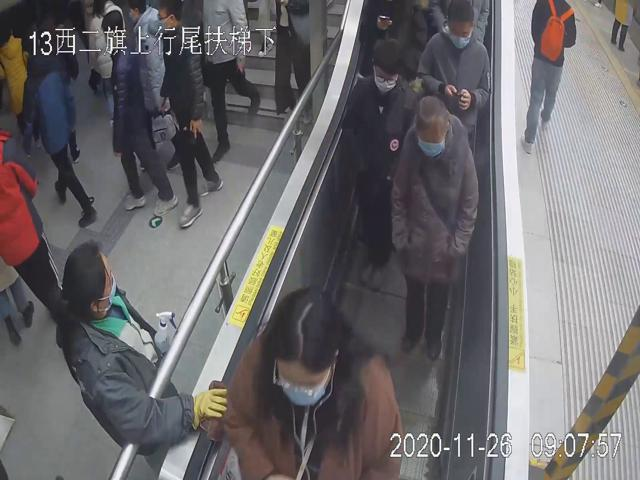person: (56, 241, 227, 452), (390, 96, 479, 364), (337, 36, 416, 296), (156, 0, 224, 231), (418, 0, 491, 139)
